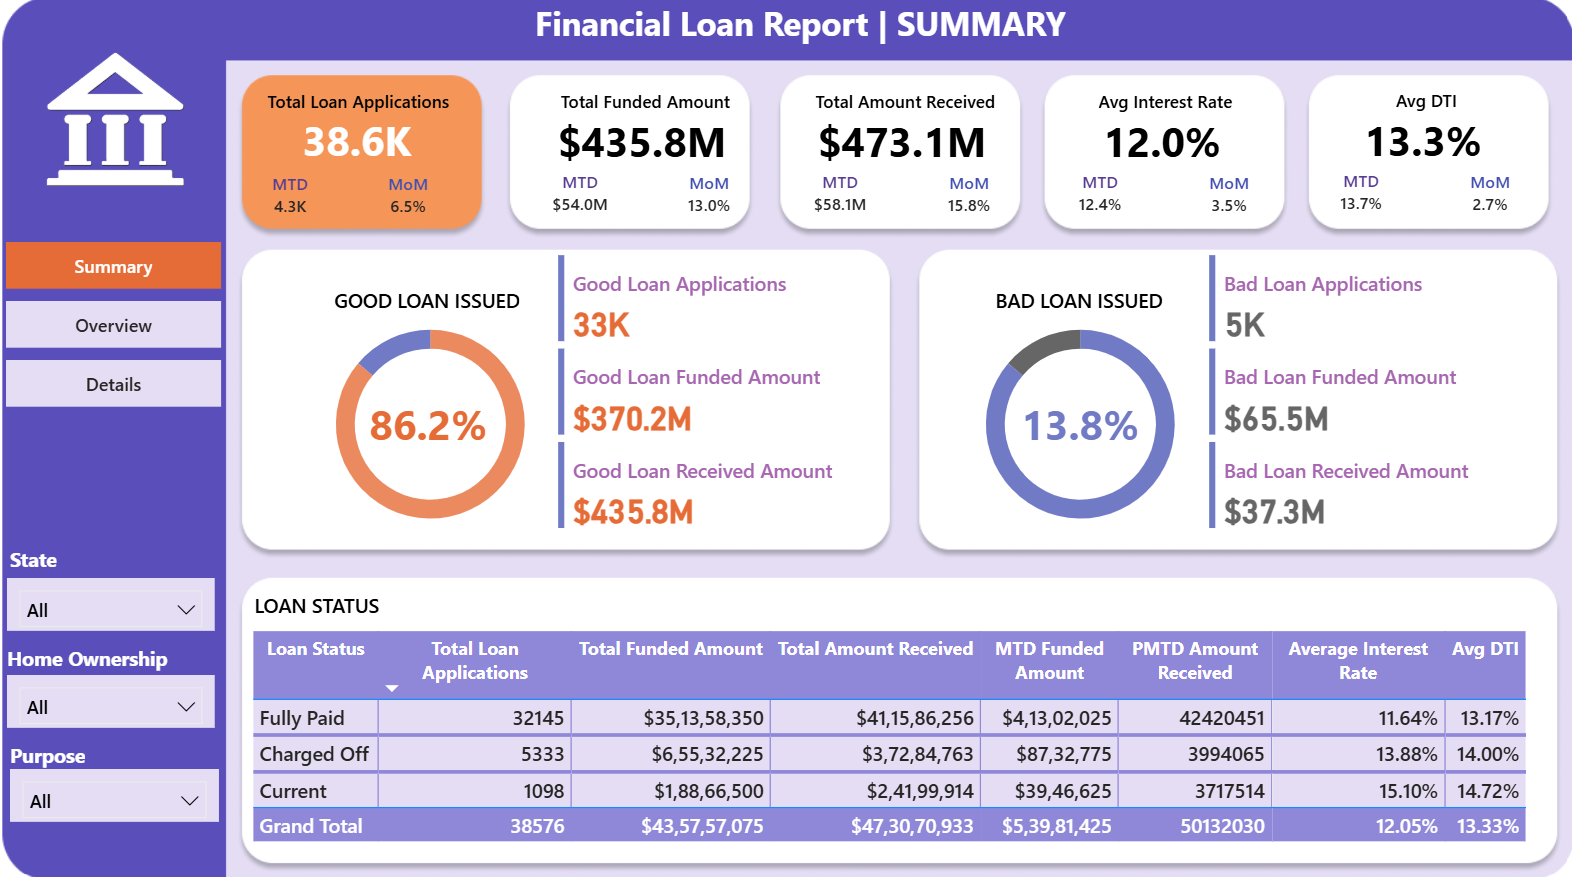

Layout of this report page (visuals, bound fields, positions):
{"tool":"powerbi","page":{"name":"Summary","canvas":[1280,720],"ordinal":0},"visuals":[{"type":"shape","box":[399.7,0,500.2,39.3],"z":0},{"type":"card","fields":{"Values":["Measure Table.Total Loan Applications"]},"box":[208.7,91.2,159.2,49.4],"z":0,"group":"g1"},{"type":"card","fields":{"Values":["Measure Table.Avg DTI"]},"box":[1075.9,91.2,159.2,49.4],"z":0,"group":"g5"},{"type":"card","fields":{"Values":["Measure Table.Total Funded Amount"]},"box":[440.6,92.3,159.2,49.4],"z":0,"group":"g2"},{"type":"card","fields":{"Values":["Measure Table.Total Amount Received"]},"box":[652.4,92.3,159.2,49.4],"z":0,"group":"g3"},{"type":"card","fields":{"Values":["Measure Table.Average Interest Rate"]},"box":[864.1,92.3,159.2,49.4],"z":0,"group":"g4"},{"type":"shape","box":[1070.3,66.6,176.4,32.3],"z":1000,"group":"g5"},{"type":"shape","box":[201.4,67.6,176.4,32.3],"z":1000,"group":"g1"},{"type":"shape","box":[435,67.7,176.4,32.3],"z":1000,"group":"g2"},{"type":"shape","box":[646.8,67.7,176.4,32.3],"z":1000,"group":"g3"},{"type":"shape","box":[858.5,67.7,176.4,32.3],"z":1000,"group":"g4"},{"type":"card","fields":{"Values":["Measure Table.Good Loan %"]},"box":[250.1,322.2,159.5,50.2],"z":1000},{"type":"card","title":"MTD","fields":{"Values":["Measure Table.MTD Average DTI"]},"box":[1073,139.5,65.5,38.3],"z":2000,"group":"g5"},{"type":"card","title":"MTD","fields":{"Values":["Measure Table.MTD Funded Applications"]},"box":[437.7,140.6,65.5,38.3],"z":2000,"group":"g2"},{"type":"card","title":"MTD","fields":{"Values":["Measure Table.MTD Amount Received"]},"box":[649.5,140.6,65.5,38.3],"z":2000,"group":"g3"},{"type":"card","title":"MTD","fields":{"Values":["Measure Table.MTD Average Int Rate"]},"box":[861.2,140.6,65.5,38.3],"z":2000,"group":"g4"},{"type":"card","title":"MTD","fields":{"Values":["Measure Table.MTD Loan Applications"]},"box":[201.4,142.2,65.5,38.3],"z":2000,"group":"g1"},{"type":"shape","box":[241.4,229.4,175.8,32.8],"z":2000},{"type":"card","title":"MoM","fields":{"Values":["Measure Table.MOM Average DTI"]},"box":[1177.8,140.5,65.5,38.3],"z":3000,"group":"g5"},{"type":"card","title":"MoM","fields":{"Values":["Measure Table.MOM Funded Amount"]},"box":[542.5,141.6,65.5,38.3],"z":3000,"group":"g2"},{"type":"card","title":"MoM","fields":{"Values":["Measure Table.MOM Amount Received"]},"box":[754.3,141.6,65.5,38.3],"z":3000,"group":"g3"},{"type":"card","title":"MoM","fields":{"Values":["Measure Table.MOM Average Interest Rate"]},"box":[966,141.6,65.5,38.3],"z":3000,"group":"g4"},{"type":"card","title":"MoM","fields":{"Values":["Measure Table.MOM Loan Applications"]},"box":[297.1,142.2,65.5,38.3],"z":3000,"group":"g1"},{"type":"donutChart","fields":{"Category":["bank_loan_data.Good vs Bad Loan"],"Y":["Measure Table.Total Loan Applications"]},"box":[207.5,245.7,244.6,202],"z":3000},{"type":"group","id":"g1","title":"Group 1","box":[201.4,67.6,175.9,113.5],"z":4000},{"type":"group","id":"g2","title":"Group 1","box":[435,67.7,176.9,112.5],"z":5000},{"type":"group","id":"g3","title":"Group 1","box":[646.8,67.7,176.9,112.5],"z":6000},{"type":"group","id":"g4","title":"Group 1","box":[858.5,67.7,176.9,112.5],"z":7000},{"type":"group","id":"g5","title":"Group 1","box":[1070.3,66.6,176.9,112.5],"z":8000},{"type":"cardVisual","fields":{"Data":["Measure Table.Good Loan Applications","Measure Table.Good Loan Funded amount","Measure Table.Good Loan Recieved amount"]},"box":[447.8,204.2,254.5,234.8],"z":9000},{"type":"donutChart","fields":{"Category":["bank_loan_data.Good vs Bad Loan"],"Y":["Measure Table.Total Loan Applications"]},"box":[753.6,245.7,244.6,202],"z":10000},{"type":"card","fields":{"Values":["Measure Table.Bad Loan %"]},"box":[796.2,322.2,159.5,50.2],"z":11000},{"type":"shape","box":[790.7,229.4,175.8,32.8],"z":12000},{"type":"cardVisual","fields":{"Data":["Measure Table.Bad Loan Applications","Measure Table.Bad Loan Funded Amount","Measure Table.Bad Loan Received Amount"]},"box":[988.4,204.2,254.5,234.8],"z":13000},{"type":"tableEx","fields":{"Values":["bank_loan_data.loan_status","Measure Table.Total Loan Applications","Measure Table.Total Funded Amount","Measure Table.Total Amount Received","Measure Table.MTD Funded Amount","Measure Table.PMTD Amount Received","Measure Table.Average Interest Rate","Measure Table.Avg DTI"]},"box":[198.8,510,1057.2,190],"z":14000},{"type":"shape","box":[173.4,478.1,165.7,31.9],"z":15000},{"type":"slicer","fields":{"Values":["bank_loan_data.address_state"]},"box":[4.4,471.8,169.3,42.6],"z":16000},{"type":"shape","box":[6.6,445.6,175.8,32.8],"z":17000},{"type":"slicer","fields":{"Values":["bank_loan_data.home_ownership"]},"box":[4.4,550.4,169.3,42.6],"z":18000},{"type":"shape","box":[4.4,526.4,175.8,31.7],"z":19000},{"type":"slicer","fields":{"Values":["bank_loan_data.purpose"]},"box":[6.4,627.3,169.6,43],"z":20000},{"type":"shape","box":[6.6,605.1,175.8,31.7],"z":21000},{"type":"image","box":[17.5,37.1,149.6,122.3],"z":22000},{"type":"pageNavigator","box":[3.3,198.8,175.8,135.4],"z":23000}]}

Visuals, with their boxes in screenshot pixels (x1, y1, x2, y2), scaled from the page's 1280x720 canvas onto the 1572x877 screenshot:
shape: detection(491, 0, 1105, 48)
card - Measure Table.Total Loan Applications: detection(256, 111, 452, 171)
card - Measure Table.Avg DTI: detection(1321, 111, 1517, 171)
card - Measure Table.Total Funded Amount: detection(541, 112, 737, 173)
card - Measure Table.Total Amount Received: detection(801, 112, 997, 173)
card - Measure Table.Average Interest Rate: detection(1061, 112, 1257, 173)
shape: detection(1314, 81, 1531, 120)
shape: detection(247, 82, 464, 122)
shape: detection(534, 82, 751, 122)
shape: detection(794, 82, 1011, 122)
shape: detection(1054, 82, 1271, 122)
card - Measure Table.Good Loan %: detection(307, 392, 503, 454)
"MTD" card: detection(1318, 170, 1398, 217)
"MTD" card: detection(538, 171, 618, 218)
"MTD" card: detection(798, 171, 878, 218)
"MTD" card: detection(1058, 171, 1138, 218)
"MTD" card: detection(247, 173, 328, 220)
shape: detection(296, 279, 512, 319)
"MoM" card: detection(1446, 171, 1527, 218)
"MoM" card: detection(666, 172, 747, 219)
"MoM" card: detection(926, 172, 1007, 219)
"MoM" card: detection(1186, 172, 1267, 219)
"MoM" card: detection(365, 173, 445, 220)
donutChart - bank_loan_data.Good vs Bad Loan x Measure Table.Total Loan Applications: detection(255, 299, 555, 545)
"Group 1" group: detection(247, 82, 463, 221)
"Group 1" group: detection(534, 82, 751, 219)
"Group 1" group: detection(794, 82, 1012, 219)
"Group 1" group: detection(1054, 82, 1272, 219)
"Group 1" group: detection(1314, 81, 1532, 218)
cardVisual - Measure Table.Good Loan Applications x Measure Table.Good Loan Funded amount: detection(550, 249, 863, 535)
donutChart - bank_loan_data.Good vs Bad Loan x Measure Table.Total Loan Applications: detection(926, 299, 1226, 545)
card - Measure Table.Bad Loan %: detection(978, 392, 1174, 454)
shape: detection(971, 279, 1187, 319)
cardVisual - Measure Table.Bad Loan Applications x Measure Table.Bad Loan Funded Amount: detection(1214, 249, 1526, 535)
tableEx - bank_loan_data.loan_status x Measure Table.Total Loan Applications: detection(244, 621, 1543, 853)
shape: detection(213, 582, 416, 621)
slicer - bank_loan_data.address_state: detection(5, 575, 213, 627)
shape: detection(8, 543, 224, 583)
slicer - bank_loan_data.home_ownership: detection(5, 670, 213, 722)
shape: detection(5, 641, 221, 680)
slicer - bank_loan_data.purpose: detection(8, 764, 216, 816)
shape: detection(8, 737, 224, 776)
image: detection(21, 45, 205, 194)
pageNavigator: detection(4, 242, 220, 407)
